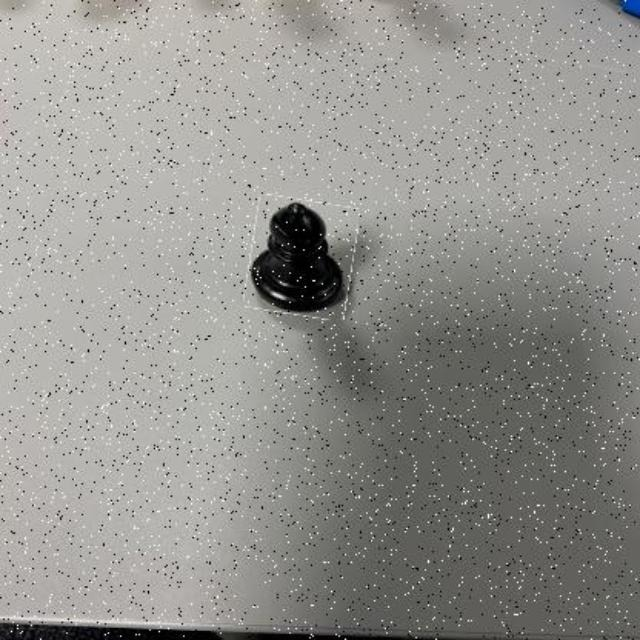black-bishop: (248, 197, 356, 318)
